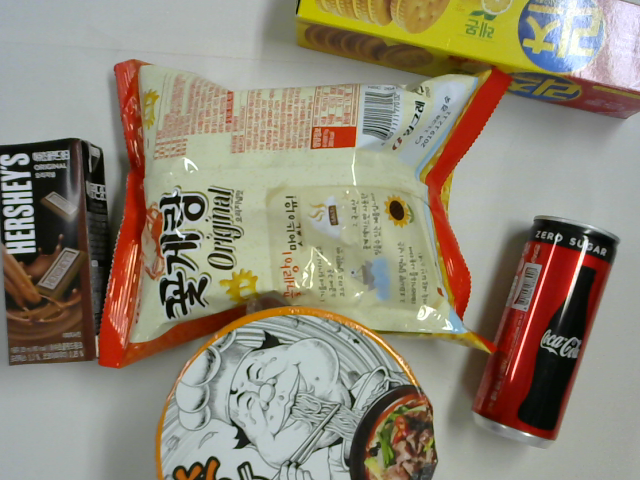Crabrang: (98, 59, 514, 358), (469, 214, 623, 450)
Hejangchan: (156, 306, 438, 480)
Hush_Choco_Drink: (1, 136, 112, 368)
Ritz_Remon_96g: (292, 1, 640, 123)
